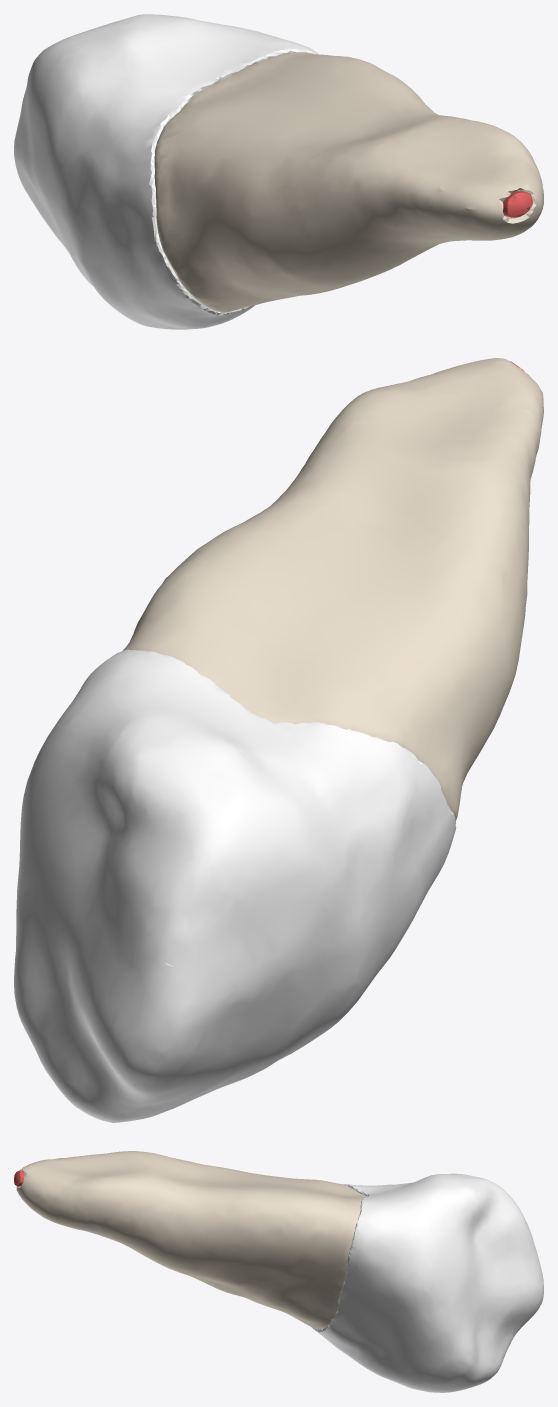
The model's file is 乳牙上颌尖牙.fbx.
3 views of the same model, one above another, from view 1: azimuth 30°, elevation 25°; view 2: azimuth 150°, elevation 25°; view 3: azimuth 270°, elevation 25° (orthographic). The views are drawn at different scales.
Visible parts, largest first — view 1: texture_B, texture_W, texture_S; view 2: texture_W, texture_B; view 3: texture_W, texture_B.
Boxes of the visible parts, x1,y1,x2,y2 form: texture_B: [154, 52, 543, 312]; texture_W: [14, 14, 318, 329]; texture_S: [503, 191, 532, 217]; texture_W: [14, 649, 456, 1122]; texture_B: [121, 358, 543, 820]; texture_W: [312, 1173, 543, 1392]; texture_B: [16, 1151, 366, 1329].
Size of the model in its own units: 9.53 by 12.93 by 26.71.
Materials: 3 (3 with a texture image).
